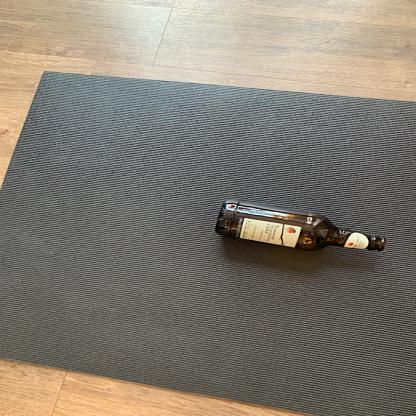trash: (212, 199, 387, 260)
